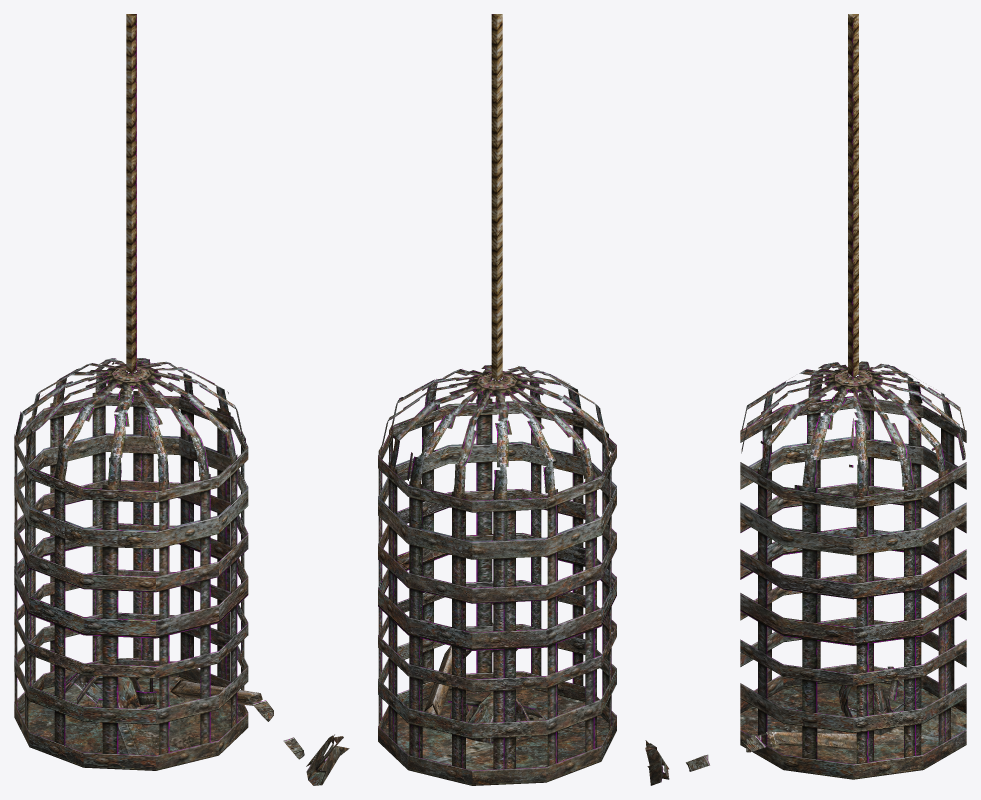
The model's file is mm9_deco_torturecage01.glb.
3 views of the same model, side by side, from view 1: azimuth 30°, elevation 25°; view 2: azimuth 150°, elevation 25°; view 3: azimuth 270°, elevation 25° (orthographic).
Parts seen in each view (by area): view 1: Torturecage01; view 2: Torturecage01; view 3: Torturecage01.
Boxes of the visible parts, x1,y1,x2,y2 form: Torturecage01: (14,14,349,785); Torturecage01: (378,14,616,785); Torturecage01: (645,14,966,785).
Bounding box in the file's own units: 1.24 × 3.91 × 1.57.
Materials: 2 (2 with a texture image).
